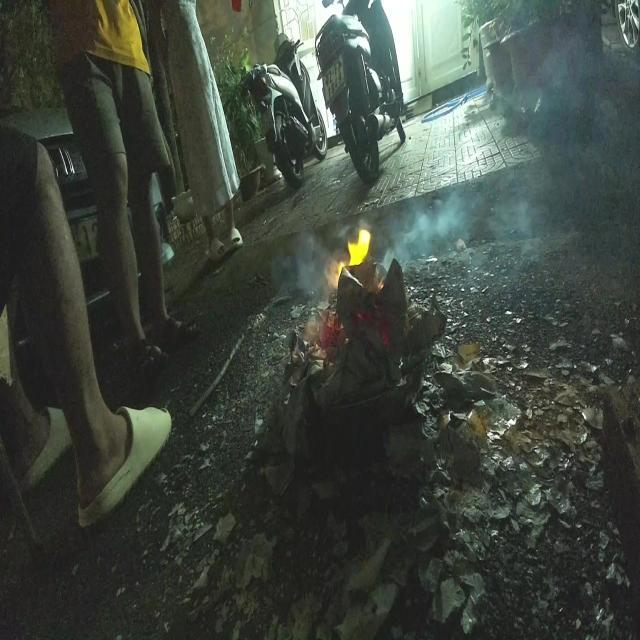Fire: (334, 224, 374, 278)
Smoke: (394, 185, 478, 282), (284, 232, 331, 306)
